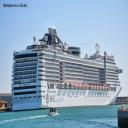cruises: (11, 27, 124, 112)
